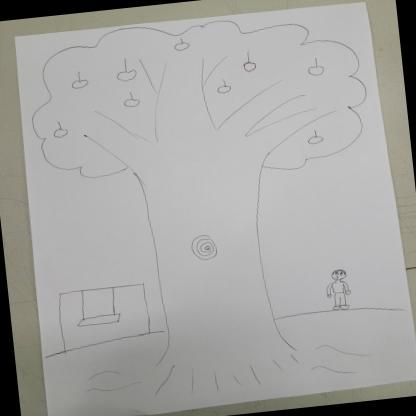apple: (123, 94, 143, 111), (212, 80, 233, 96), (114, 68, 138, 82), (50, 124, 70, 139), (306, 62, 327, 76), (169, 40, 191, 52), (70, 78, 90, 90), (306, 133, 324, 146), (243, 58, 259, 72)
branch_line: (78, 38, 333, 168)
crown_cloud: (15, 0, 375, 200)
knot: (188, 230, 222, 263)
root_upside: (136, 306, 326, 398)
trunk_straight: (134, 180, 280, 314)
